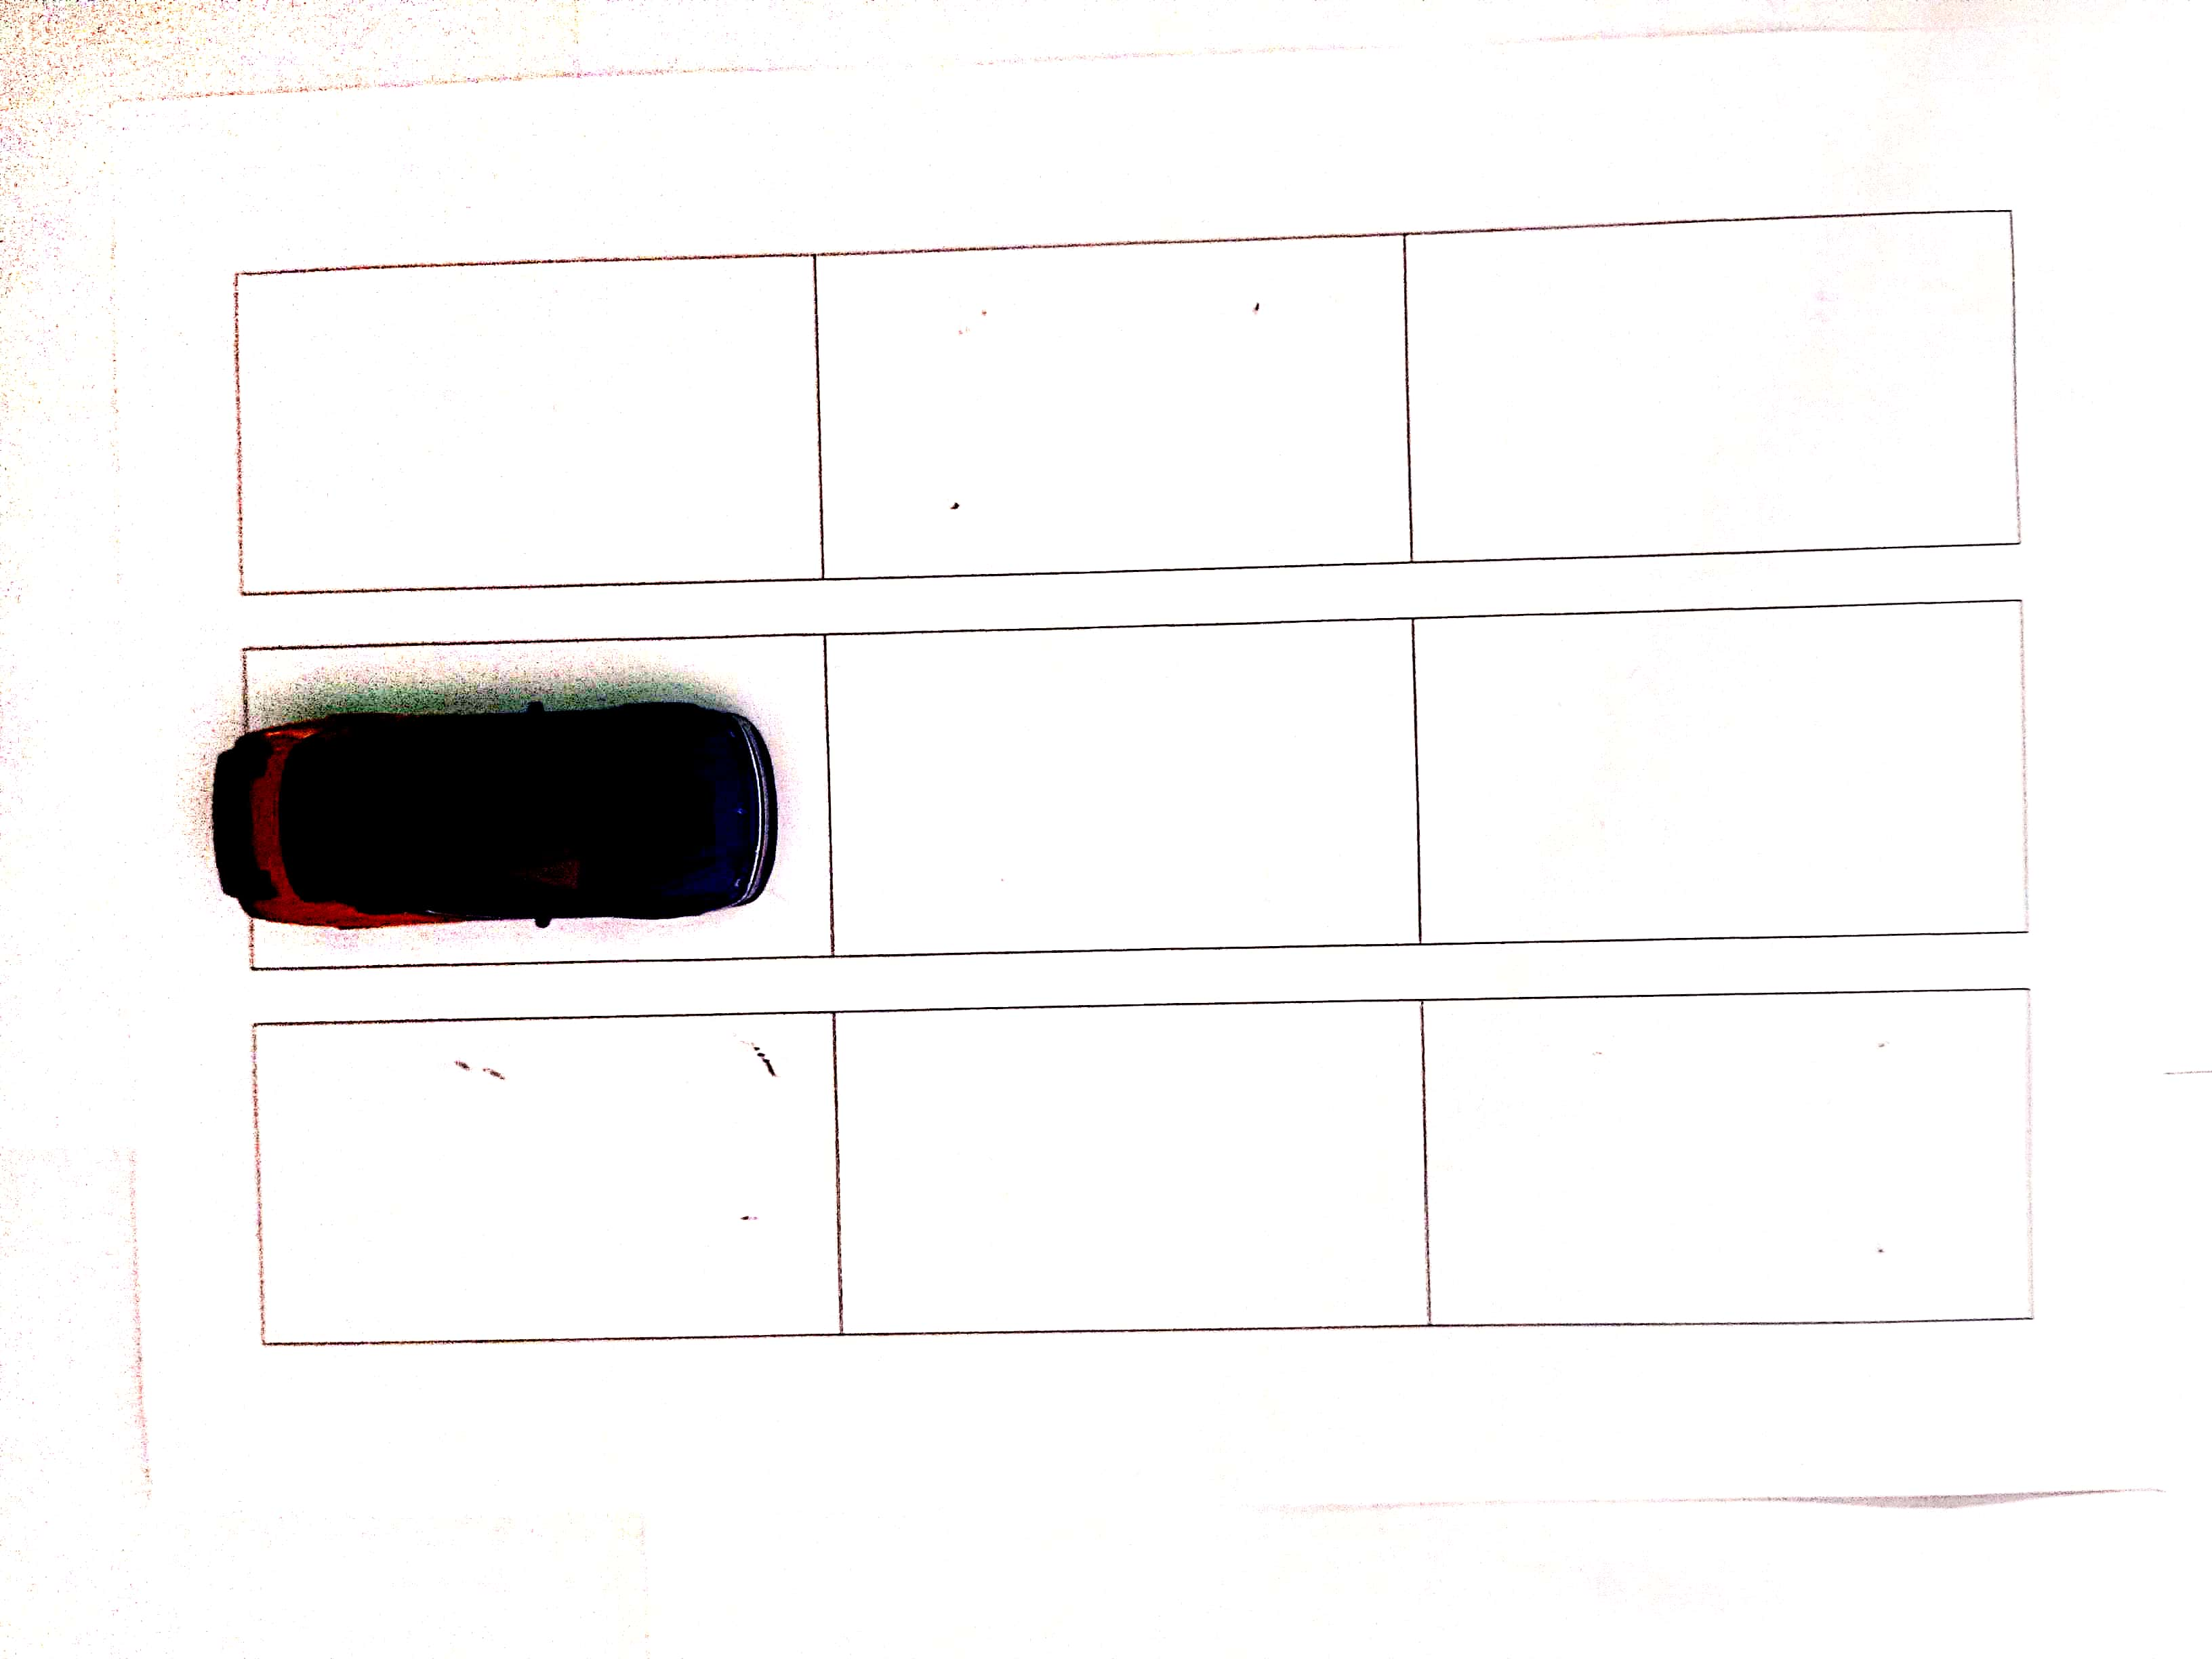Busy: (239, 648, 824, 955)
Free: (1421, 601, 2027, 936), (1433, 986, 2026, 1328), (1409, 225, 2019, 547), (253, 1016, 834, 1347), (838, 1014, 1432, 1333), (833, 620, 1414, 943), (829, 244, 1397, 570), (239, 254, 815, 575)
